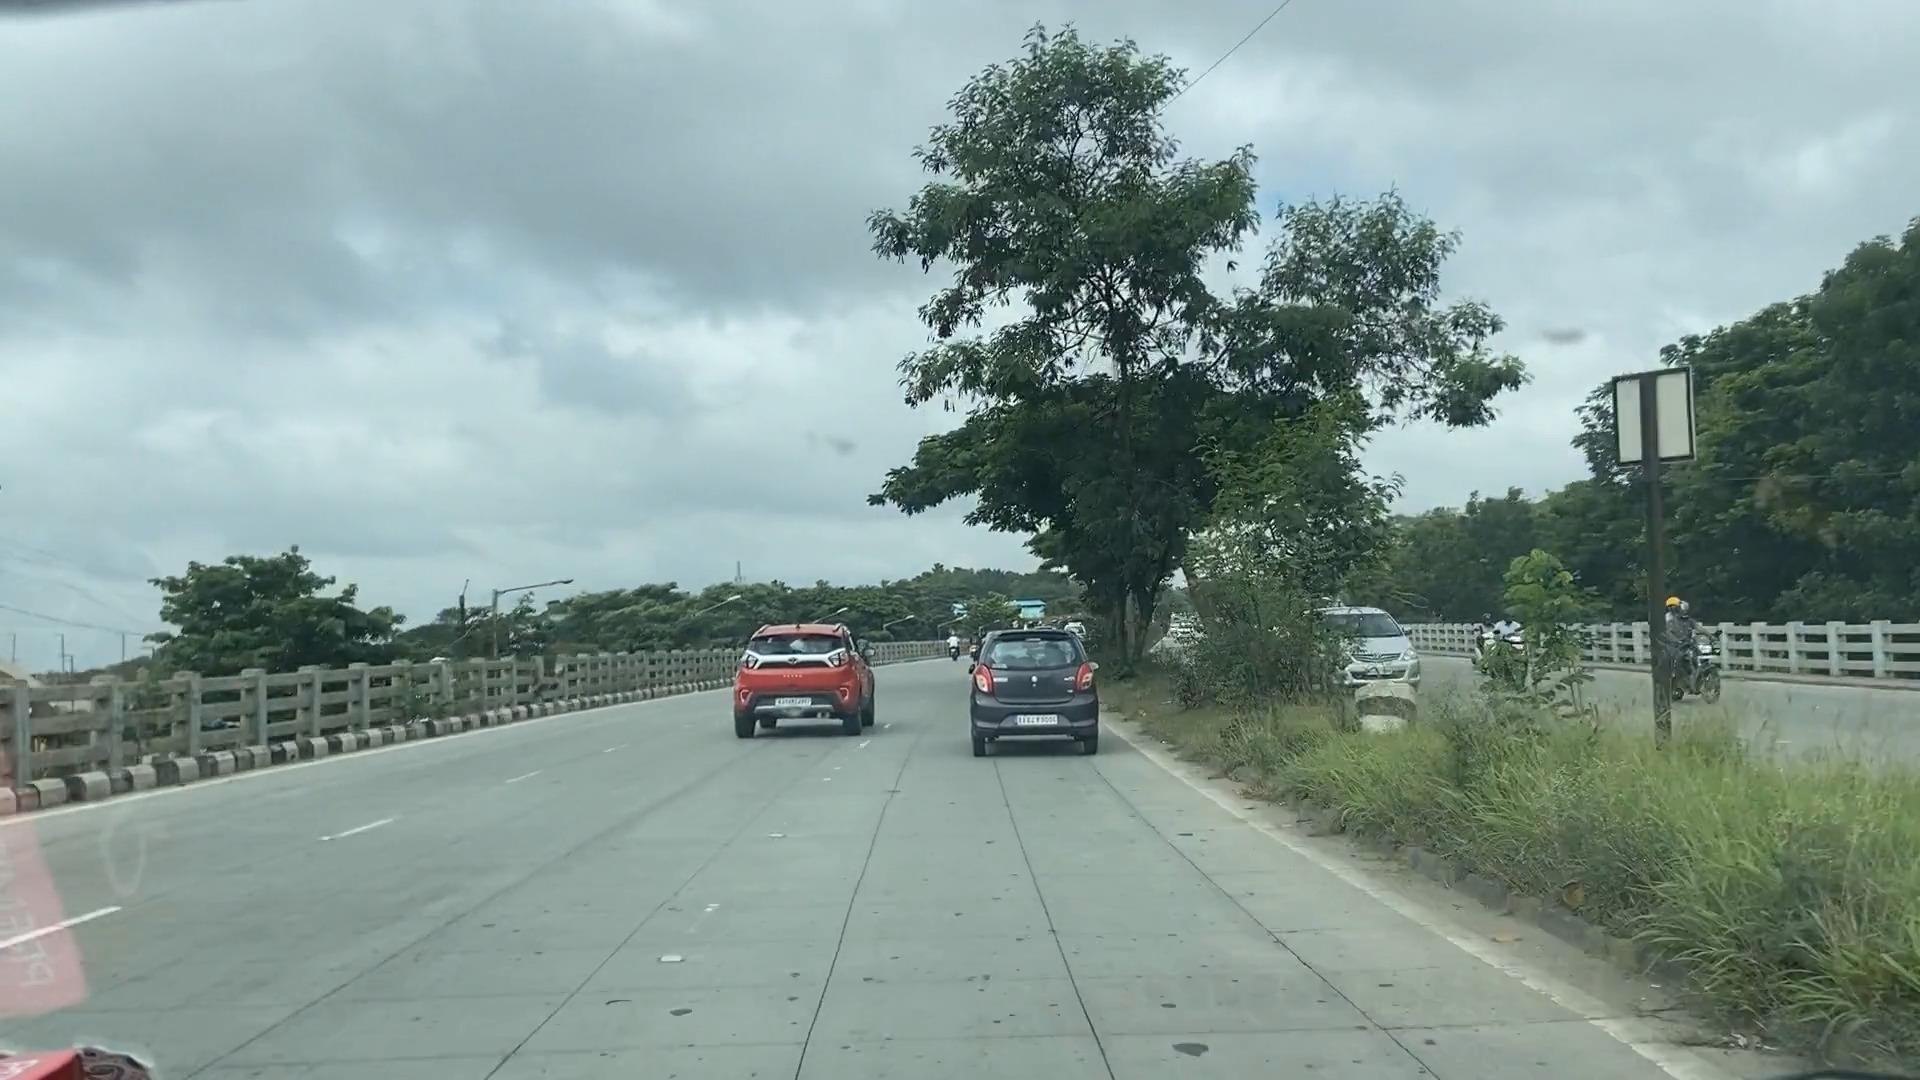LMV: (750, 620, 880, 728), (984, 632, 1100, 744)
